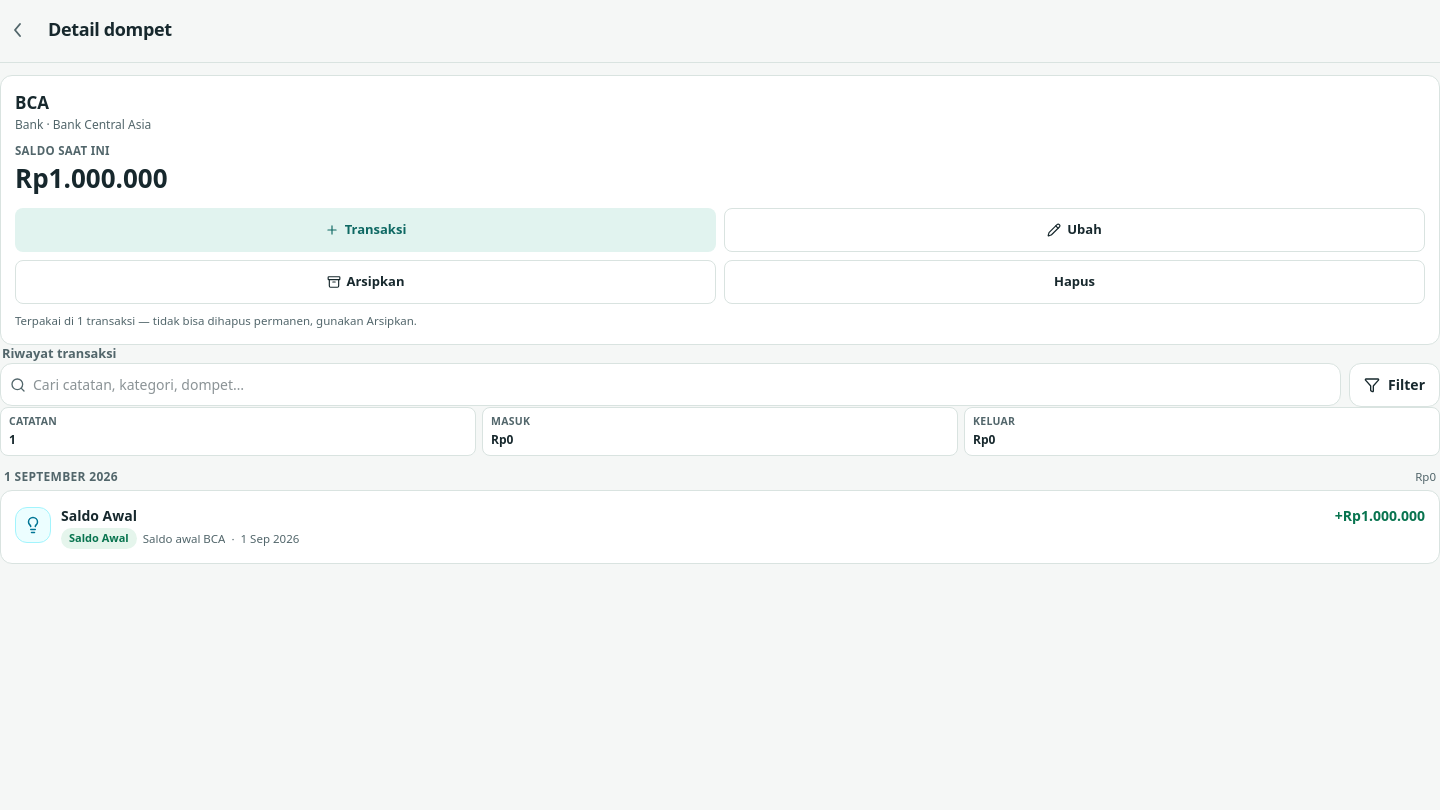
Test: Dompet (wallets) Phase 2D UX › surfaces the ledger's refusal instead of deleting a wallet that is still referenced
Click the button "Hapus" at (1074, 282), box [724,260,1425,304]
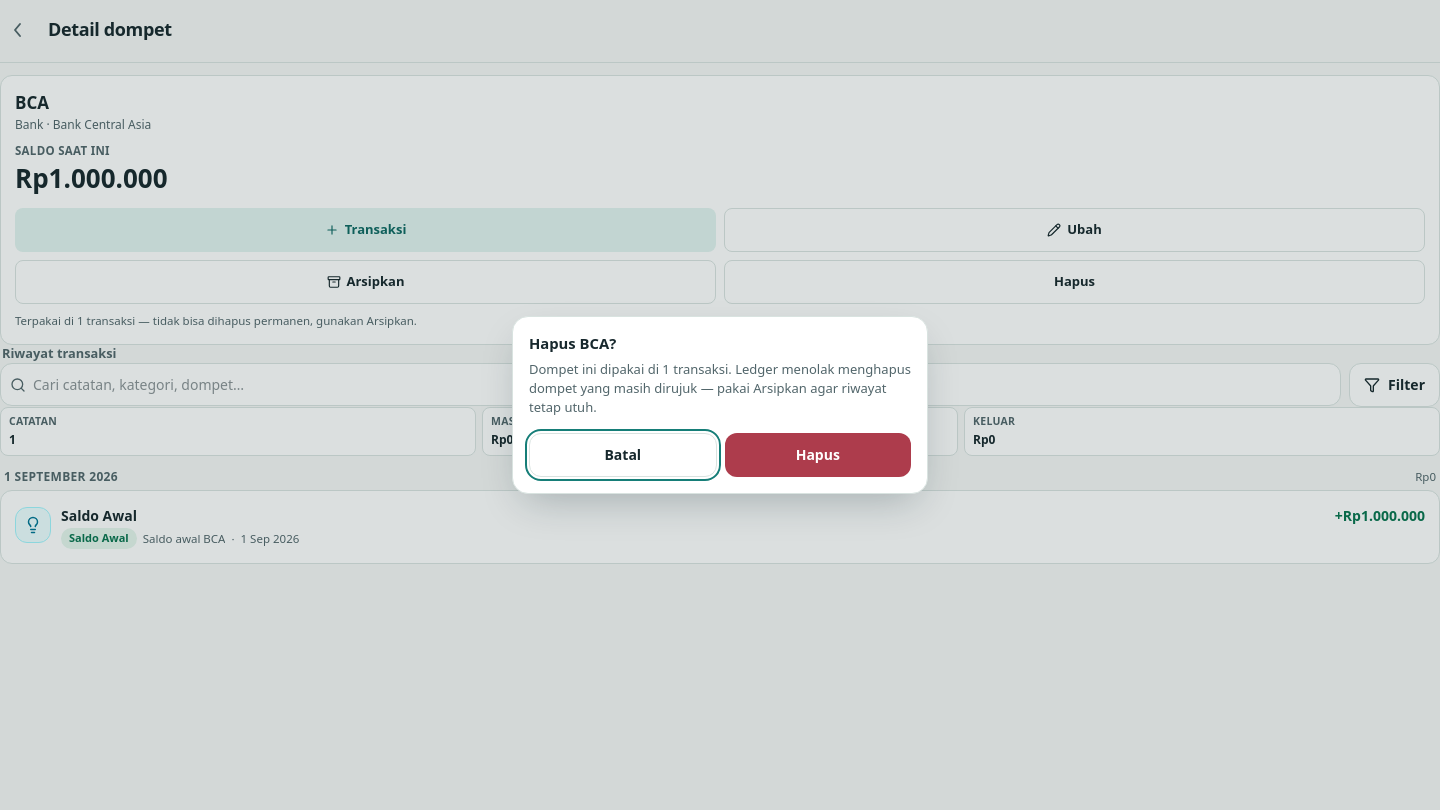
Result: the text "Ledger menolak menghapus" is shown at [529,360,911,416]
Click the button "Hapus" at (818, 455), box [724,433,911,477]
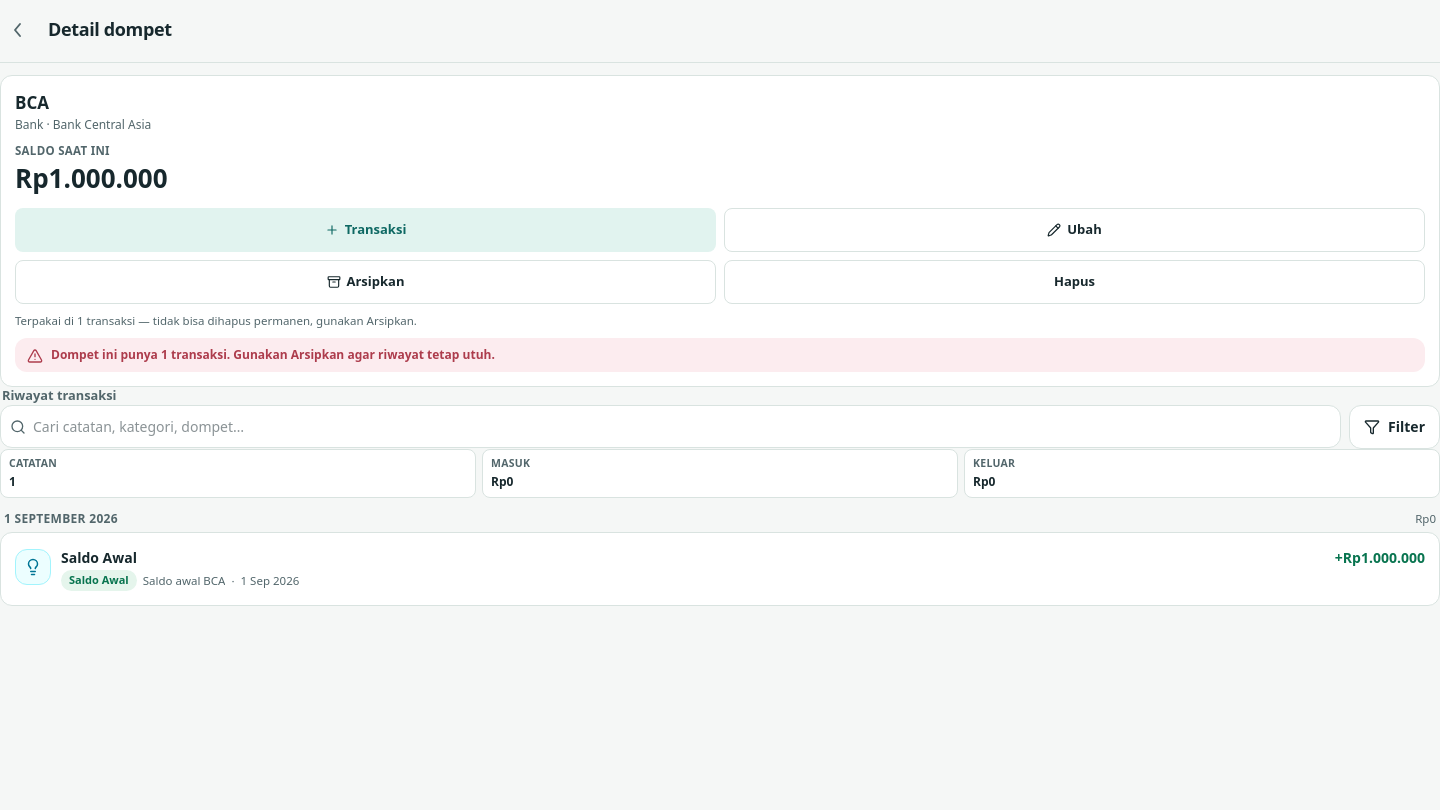
Result: the message shows "Gunakan Arsipkan agar riwayat tetap utuh" at [51,346,495,363]
